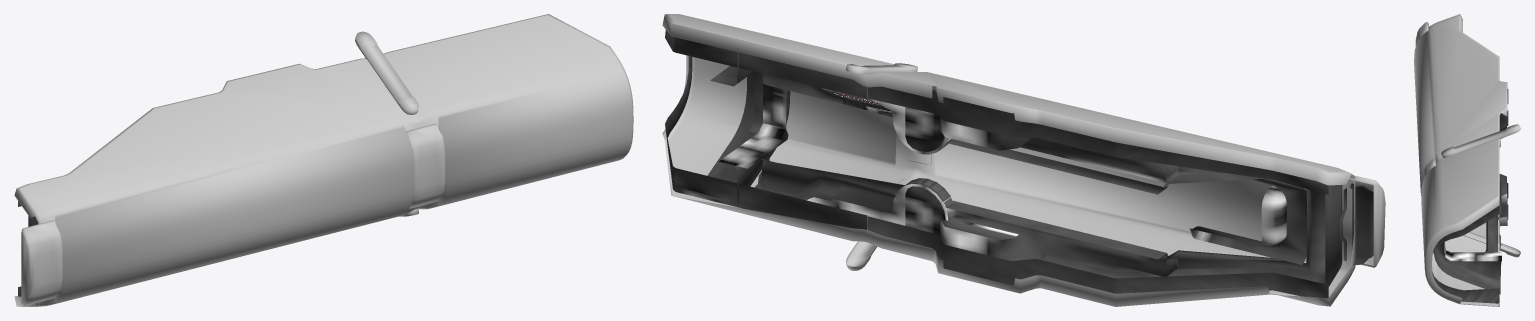
The model's file is ARCover.fbx.
The picture shows the model from 3 angles, left to right: view 1: azimuth 30°, elevation 25°; view 2: azimuth 150°, elevation 25°; view 3: azimuth 270°, elevation 25°; orthographic projection. The views are drawn at different scales.
Visible parts, largest first — view 1: default_Muzzle_and_Cover; view 2: default_Muzzle_and_Cover; view 3: default_Muzzle_and_Cover.
Boxes of the visible parts, <box> form: default_Muzzle_and_Cover: <box>14,14,633,306</box>; default_Muzzle_and_Cover: <box>662,14,1385,306</box>; default_Muzzle_and_Cover: <box>1414,14,1520,306</box>.
Size of the model in its own units: 16.74 by 4.76 by 3.53.
